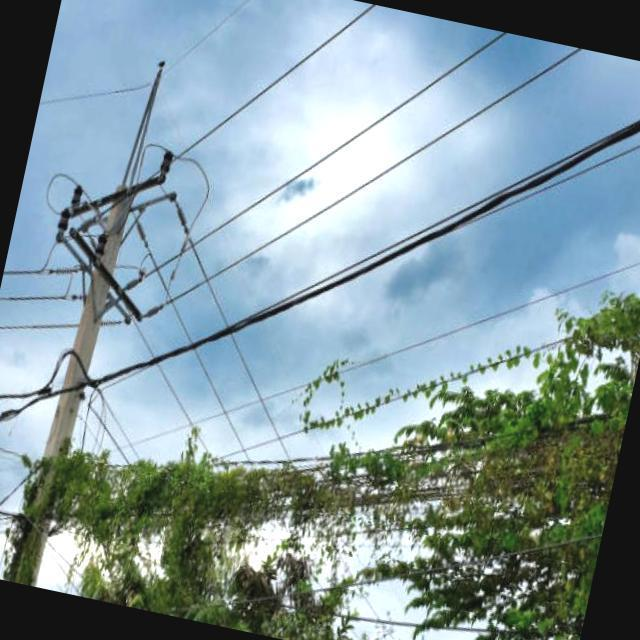critical vegetation: (2, 39, 179, 592), (0, 397, 135, 553)
